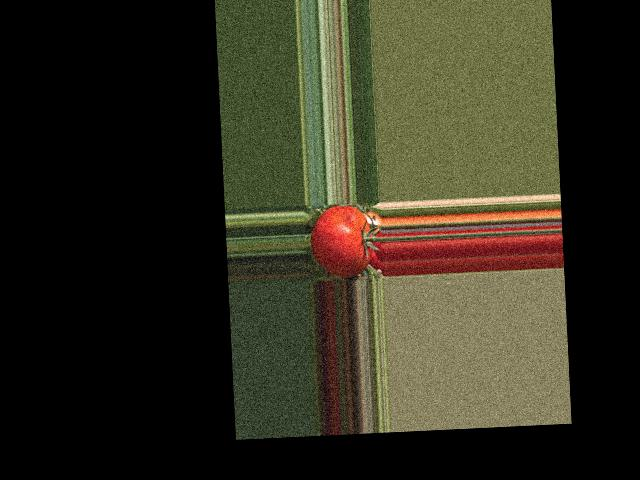tomato: (309, 204, 373, 278)
